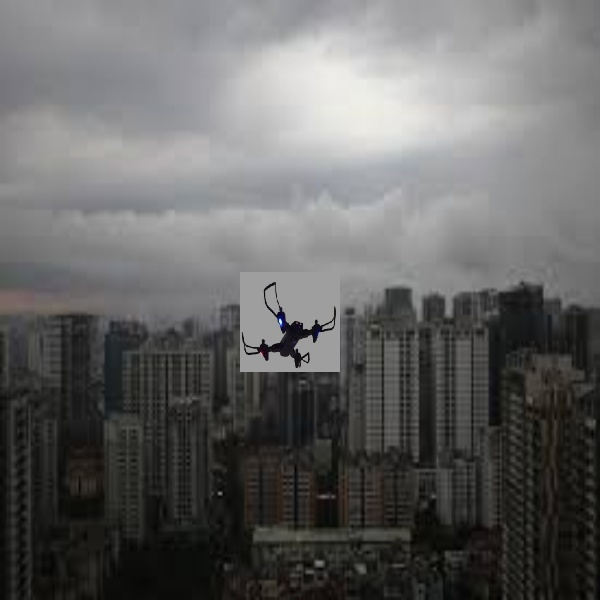drone: (240, 269, 341, 372)
